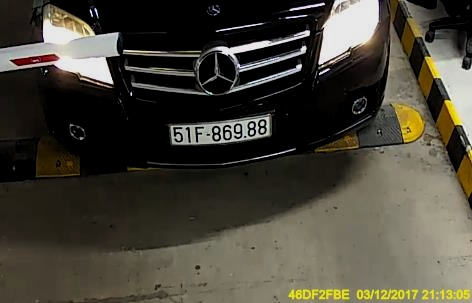plate: (167, 114, 273, 146)
